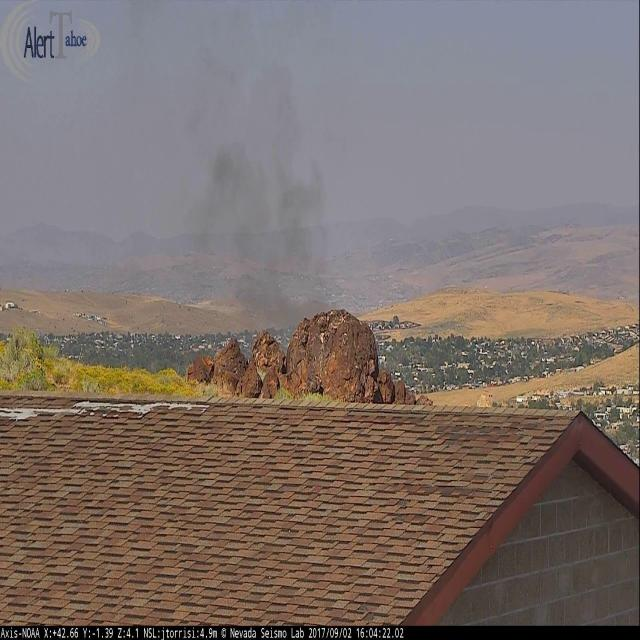smoke: (138, 13, 339, 350)
